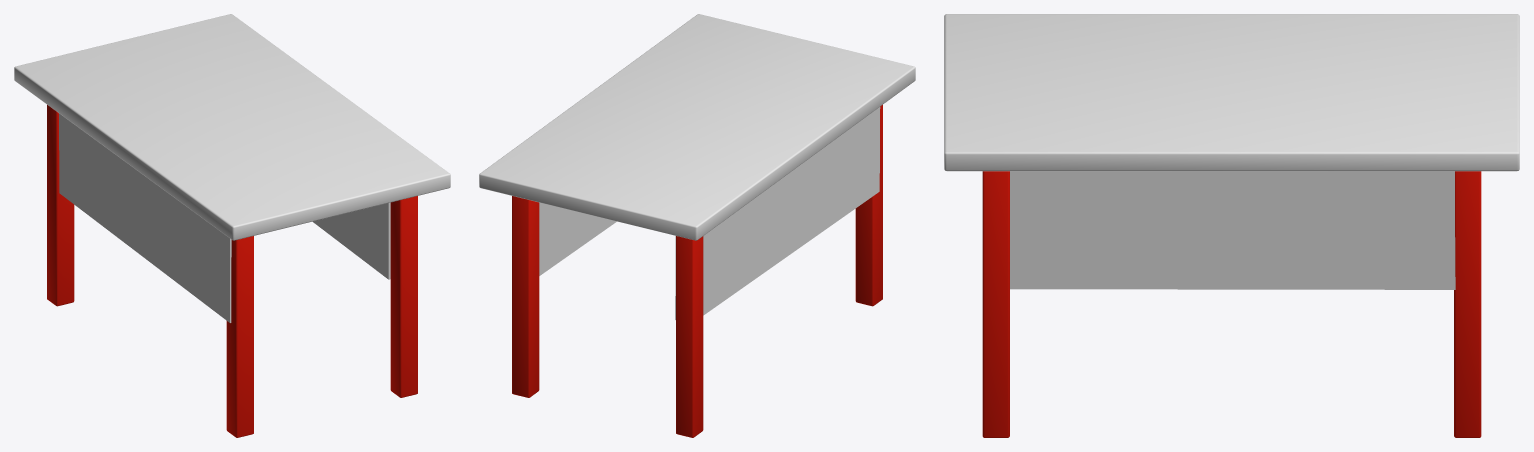
The model's file is Better Table With Skirt.blend 2.blend better.fbx.
The picture shows the model from 3 angles, left to right: view 1: azimuth 30°, elevation 25°; view 2: azimuth 150°, elevation 25°; view 3: azimuth 270°, elevation 25°; orthographic projection. The views are drawn at different scales.
Parts seen in each view (by area): view 1: Cube, Cube.001, Cube.003, Cube.002; view 2: Cube, Cube.003, Cube.001, Cube.002; view 3: Cube, Cube.002, Cube.001.
Part boxes in pixels (x1=…): Cube: x1=14, y1=14, x2=450, y2=240; Cube.001: x1=47, y1=105, x2=417, y2=437; Cube.003: x1=59, y1=113, x2=231, y2=322; Cube.002: x1=313, y1=202, x2=390, y2=279; Cube: x1=479, y1=14, x2=915, y2=240; Cube.003: x1=675, y1=107, x2=880, y2=319; Cube.001: x1=512, y1=105, x2=882, y2=437; Cube.002: x1=539, y1=202, x2=616, y2=275; Cube: x1=944, y1=14, x2=1519, y2=171; Cube.002: x1=1010, y1=171, x2=1455, y2=289; Cube.001: x1=982, y1=171, x2=1481, y2=437.
Size of the model in its own units: 462 by 459 by 806.
